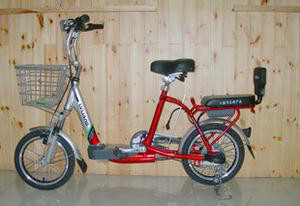电动车: (9, 13, 273, 198)
